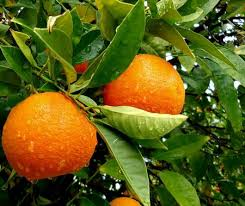orange: (2, 89, 101, 182), (101, 53, 191, 132), (96, 193, 154, 206)
